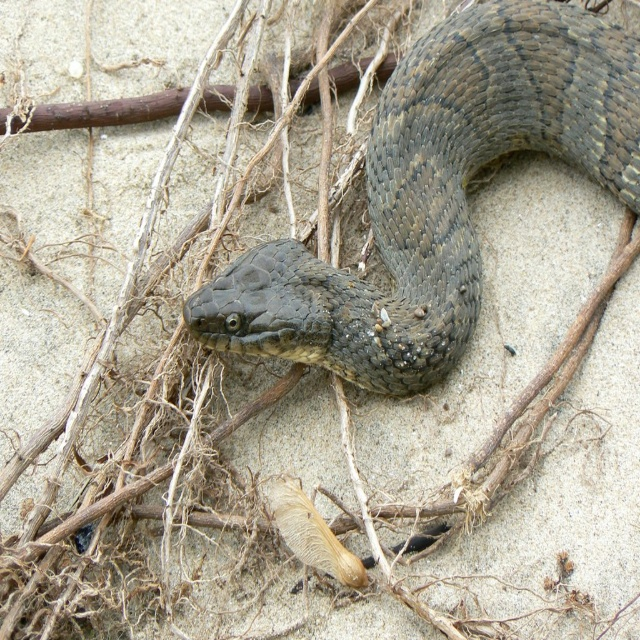Snake: (183, 0, 640, 395)
